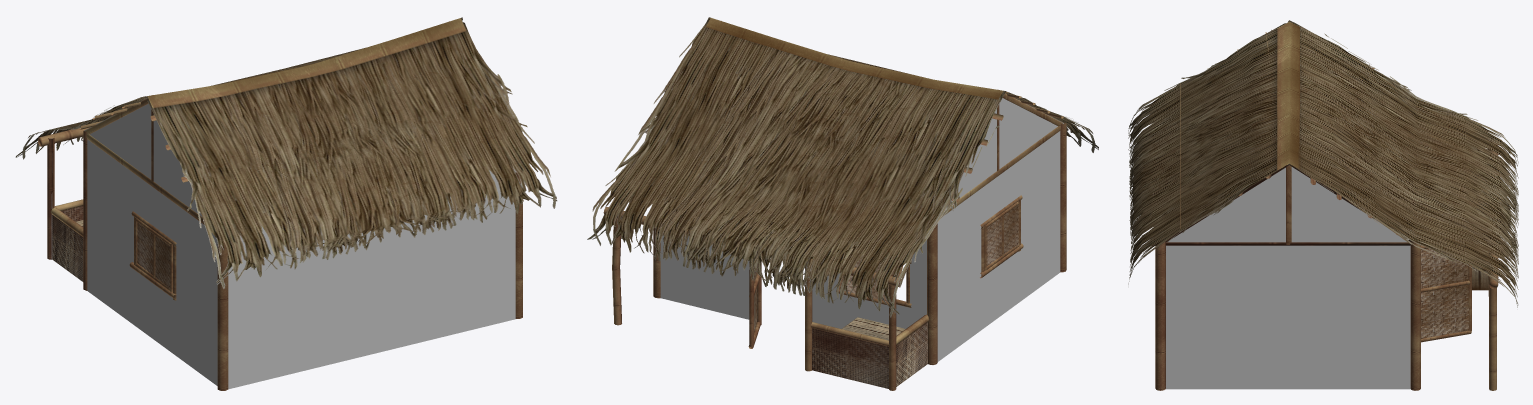
Rendered from rumah_tipe3_v1.fbx.
3 views of the same model, side by side, from view 1: azimuth 30°, elevation 25°; view 2: azimuth 150°, elevation 25°; view 3: azimuth 270°, elevation 25° (orthographic). The views are drawn at different scales.
Visible parts, largest first — view 1: atap_nbambo, dinding3; view 2: atap_nbambo, dinding3; view 3: atap_nbambo, dinding3.
Boxes of the visible parts, x1=… form: atap_nbambo: x1=15, y1=17, x2=557, y2=390; dinding3: x1=84, y1=98, x2=515, y2=389; atap_nbambo: x1=587, y1=17, x2=1098, y2=390; dinding3: x1=660, y1=98, x2=1063, y2=361; atap_nbambo: x1=1128, y1=20, x2=1518, y2=390; dinding3: x1=1166, y1=167, x2=1410, y2=389.
Size of the model in its own units: 49.38 by 34.32 by 51.86.
